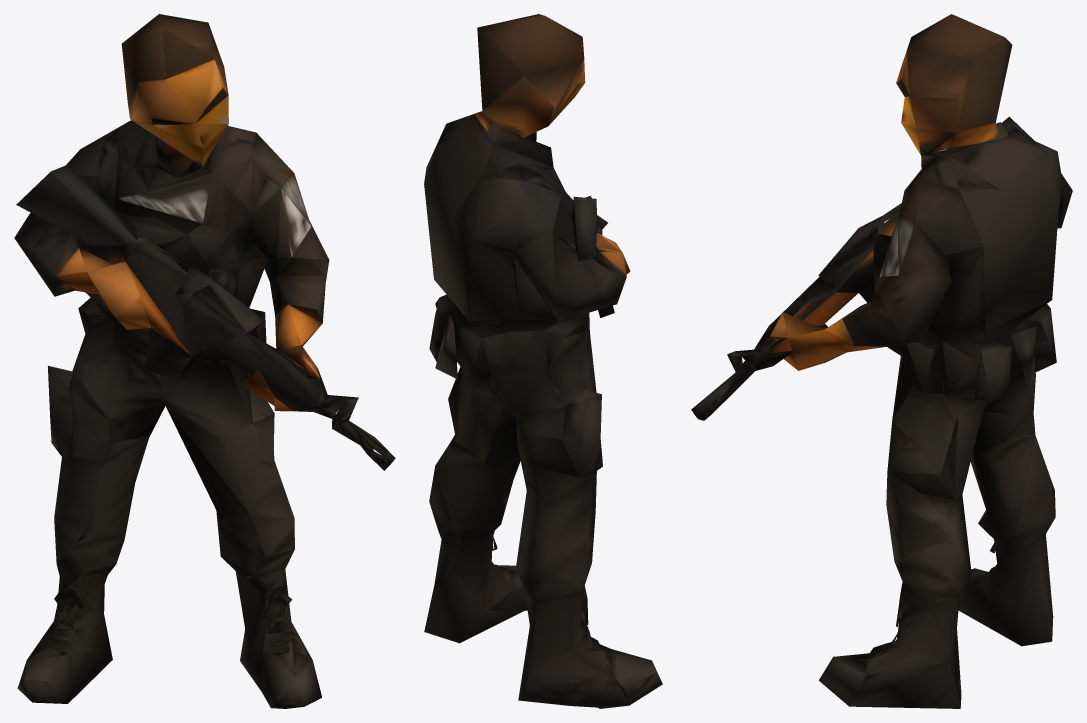
Rendered from demo_warden_01.glb.
The picture shows the model from 3 angles, left to right: view 1: azimuth 30°, elevation 25°; view 2: azimuth 150°, elevation 25°; view 3: azimuth 270°, elevation 25°; orthographic projection. The views are drawn at different scales.
Parts seen in each view (by area): view 1: node_0; view 2: node_0; view 3: node_0.
Part boxes in pixels (<box>): node_0: <box>14,14,395,708</box>; node_0: <box>424,14,662,708</box>; node_0: <box>691,14,1072,708</box>.
Size of the model in its own units: 0.4504 by 1.07 by 0.5789.
Materials: 1 (1 with a texture image).
